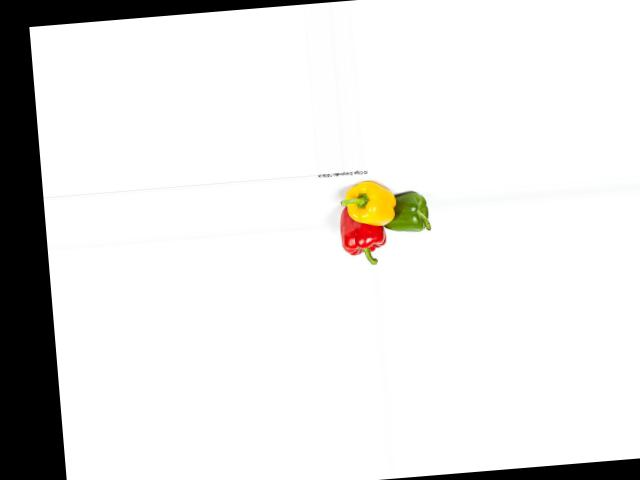bell_pepper: (334, 206, 388, 267)
